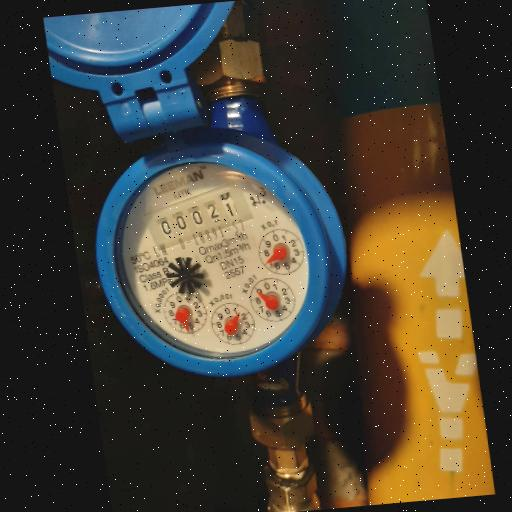0: (186, 205, 207, 229), (156, 215, 176, 239), (170, 211, 190, 234)
1: (216, 190, 240, 221)
2: (202, 198, 224, 225)
border_water_meter_number: (139, 179, 259, 255)
